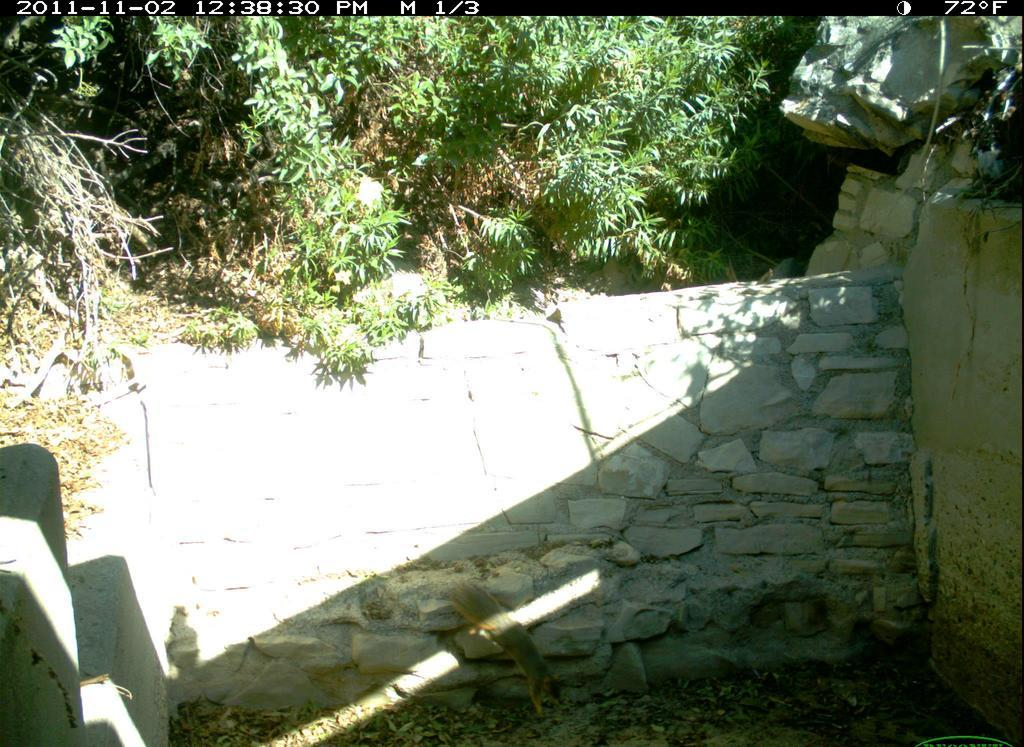squirrel: (444, 579, 569, 722)
